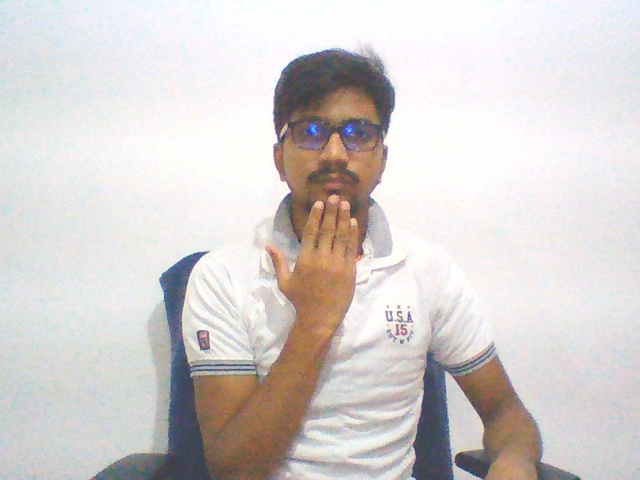mango: (261, 186, 362, 349)
